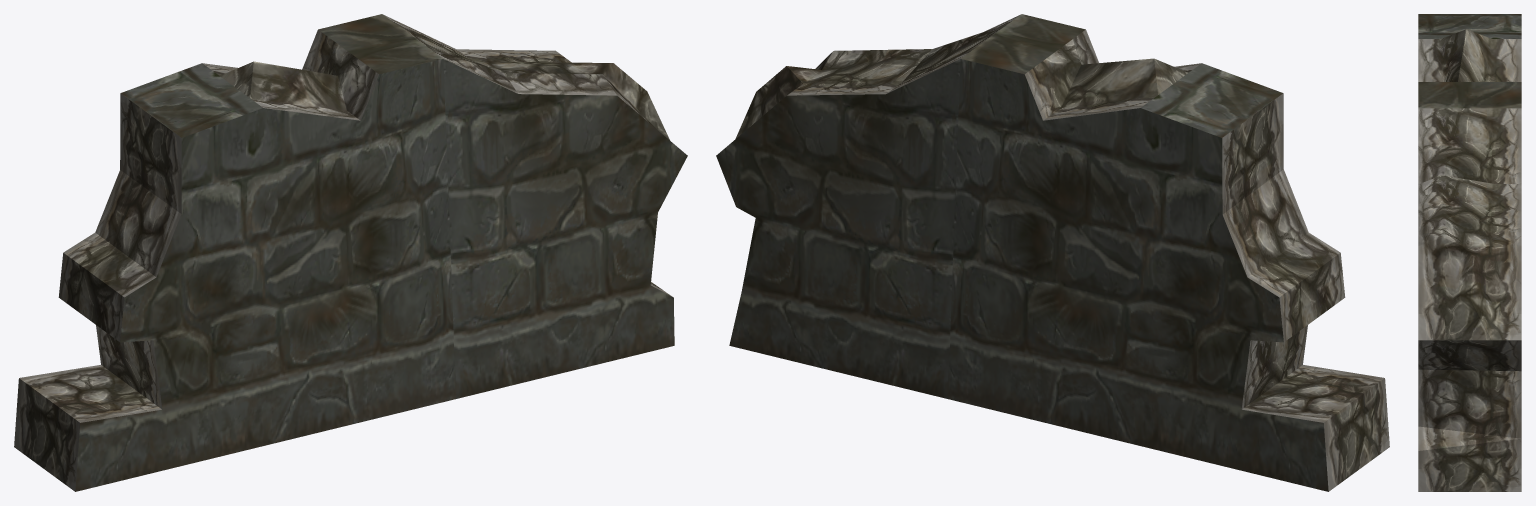
The model's file is Z_qiang001.fbx.
3 views of the same model, side by side, from view 1: azimuth 30°, elevation 25°; view 2: azimuth 150°, elevation 25°; view 3: azimuth 270°, elevation 25° (orthographic). The views are drawn at different scales.
Parts seen in each view (by area): view 1: Z_qiang001; view 2: Z_qiang001; view 3: Z_qiang001.
Boxes of the visible parts, x1=… form: Z_qiang001: x1=14, y1=14, x2=687, y2=491; Z_qiang001: x1=716, y1=14, x2=1389, y2=491; Z_qiang001: x1=1418, y1=14, x2=1521, y2=491.
Size of the model in its own units: 414 by 232 by 71.73.
